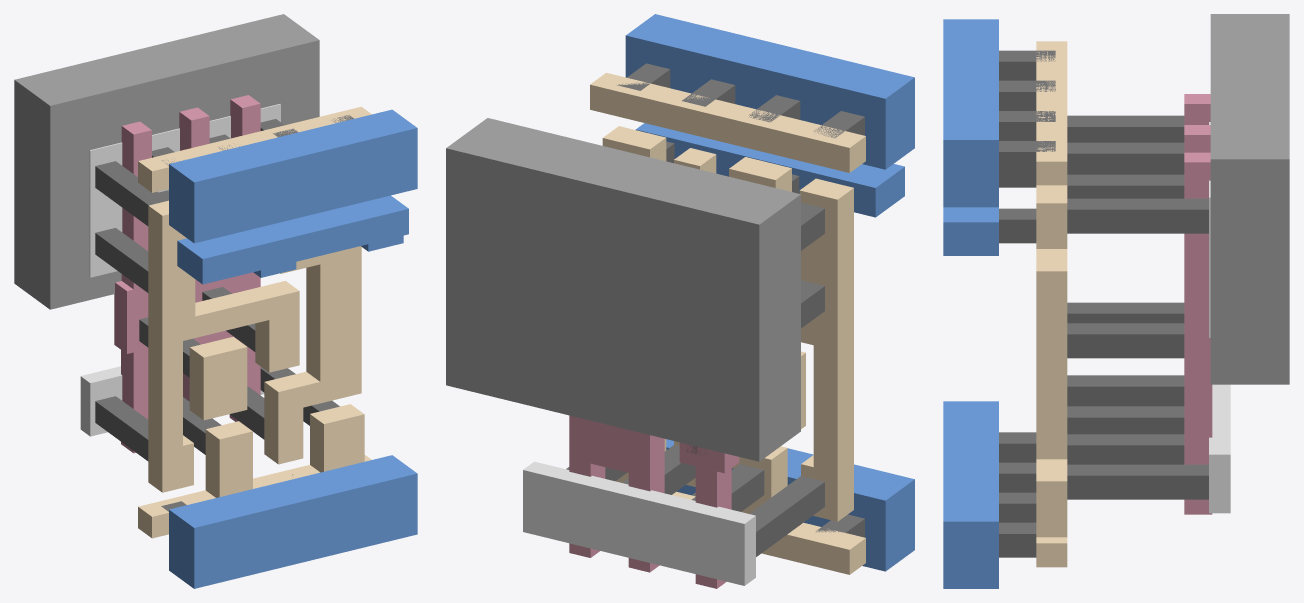
File: sky130_fd_sc_hd__lpflow_clkbufkapwr_2.gds.gltf
3 renders of one model, left to right at view 1: azimuth 30°, elevation 25°; view 2: azimuth 150°, elevation 25°; view 3: azimuth 270°, elevation 25°, orthographic. The views are drawn at different scales.
Visible parts, largest first — view 1: sky130_fd_sc_hd__lpflow_clkbufkapwr_2_met1, sky130_fd_sc_hd__lpflow_clkbufkapwr_2_li1, sky130_fd_sc_hd__lpflow_clkbufkapwr_2_nwell, sky130_fd_sc_hd__lpflow_clkbufkapwr_2_licon, sky130_fd_sc_hd__lpflow_clkbufkapwr_2_poly, sky130_fd_sc_hd__lpflow_clkbufkapwr_2_diff; view 2: sky130_fd_sc_hd__lpflow_clkbufkapwr_2_nwell, sky130_fd_sc_hd__lpflow_clkbufkapwr_2_li1, sky130_fd_sc_hd__lpflow_clkbufkapwr_2_met1, sky130_fd_sc_hd__lpflow_clkbufkapwr_2_diff, sky130_fd_sc_hd__lpflow_clkbufkapwr_2_poly, sky130_fd_sc_hd__lpflow_clkbufkapwr_2_licon, sky130_fd_sc_hd__lpflow_clkbufkapwr_2_mcon; view 3: sky130_fd_sc_hd__lpflow_clkbufkapwr_2_licon, sky130_fd_sc_hd__lpflow_clkbufkapwr_2_nwell, sky130_fd_sc_hd__lpflow_clkbufkapwr_2_met1, sky130_fd_sc_hd__lpflow_clkbufkapwr_2_li1, sky130_fd_sc_hd__lpflow_clkbufkapwr_2_mcon, sky130_fd_sc_hd__lpflow_clkbufkapwr_2_poly, sky130_fd_sc_hd__lpflow_clkbufkapwr_2_diff.
Boxes of the visible parts, box(x1,y1,x2,y2) form: sky130_fd_sc_hd__lpflow_clkbufkapwr_2_met1: box(169, 109, 417, 588); sky130_fd_sc_hd__lpflow_clkbufkapwr_2_li1: box(138, 106, 371, 538); sky130_fd_sc_hd__lpflow_clkbufkapwr_2_nwell: box(14, 14, 319, 309); sky130_fd_sc_hd__lpflow_clkbufkapwr_2_licon: box(95, 119, 339, 461); sky130_fd_sc_hd__lpflow_clkbufkapwr_2_poly: box(114, 95, 260, 453); sky130_fd_sc_hd__lpflow_clkbufkapwr_2_diff: box(80, 104, 280, 436); sky130_fd_sc_hd__lpflow_clkbufkapwr_2_nwell: box(446, 118, 800, 461); sky130_fd_sc_hd__lpflow_clkbufkapwr_2_li1: box(590, 72, 865, 574); sky130_fd_sc_hd__lpflow_clkbufkapwr_2_met1: box(625, 14, 914, 571); sky130_fd_sc_hd__lpflow_clkbufkapwr_2_diff: box(523, 461, 755, 585); sky130_fd_sc_hd__lpflow_clkbufkapwr_2_poly: box(569, 415, 739, 588); sky130_fd_sc_hd__lpflow_clkbufkapwr_2_licon: box(566, 202, 824, 556); sky130_fd_sc_hd__lpflow_clkbufkapwr_2_mcon: box(617, 63, 864, 537); sky130_fd_sc_hd__lpflow_clkbufkapwr_2_licon: box(1067, 115, 1208, 499); sky130_fd_sc_hd__lpflow_clkbufkapwr_2_nwell: box(1210, 14, 1289, 384); sky130_fd_sc_hd__lpflow_clkbufkapwr_2_met1: box(943, 19, 998, 588); sky130_fd_sc_hd__lpflow_clkbufkapwr_2_li1: box(1036, 41, 1067, 567); sky130_fd_sc_hd__lpflow_clkbufkapwr_2_mcon: box(999, 50, 1055, 557); sky130_fd_sc_hd__lpflow_clkbufkapwr_2_poly: box(1184, 94, 1212, 514); sky130_fd_sc_hd__lpflow_clkbufkapwr_2_diff: box(1209, 122, 1230, 513).
Bounding box in the file's own units: 2.22 × 3.2 × 2.24.
